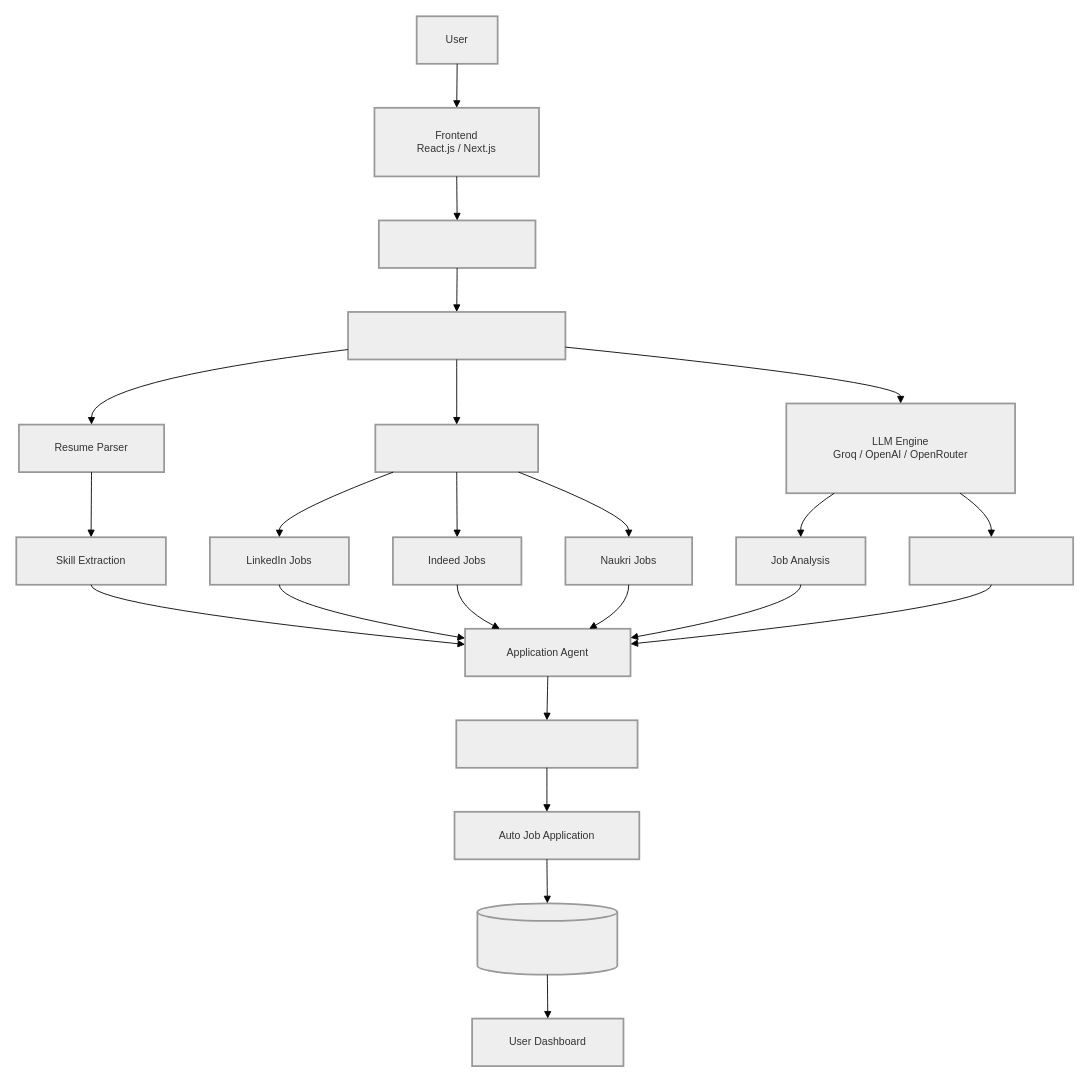
The diagram is 1089 pixels wide and 1082 high, and some of its shapes have lost their labels. The centre of each missing label's shape, as x and y in pixels:
AI Job Agent Orchestrator: (x=456, y=335)
Browser Automation: (x=546, y=743)
Django REST API: (x=457, y=243)
Job Search Agent: (x=456, y=448)
MySQL / PostgreSQL: (x=547, y=938)
Resume Matching: (x=991, y=560)
